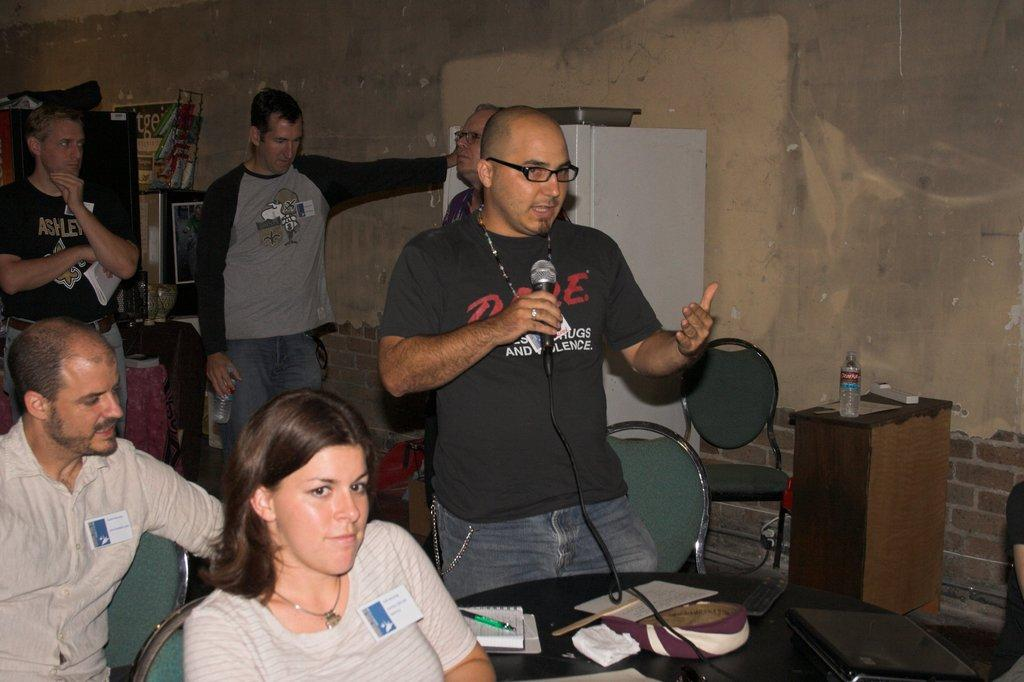Sem Máscara: (276, 448, 369, 574), (489, 132, 569, 232), (41, 365, 121, 456), (259, 116, 302, 172), (33, 127, 82, 175), (456, 113, 481, 173)
